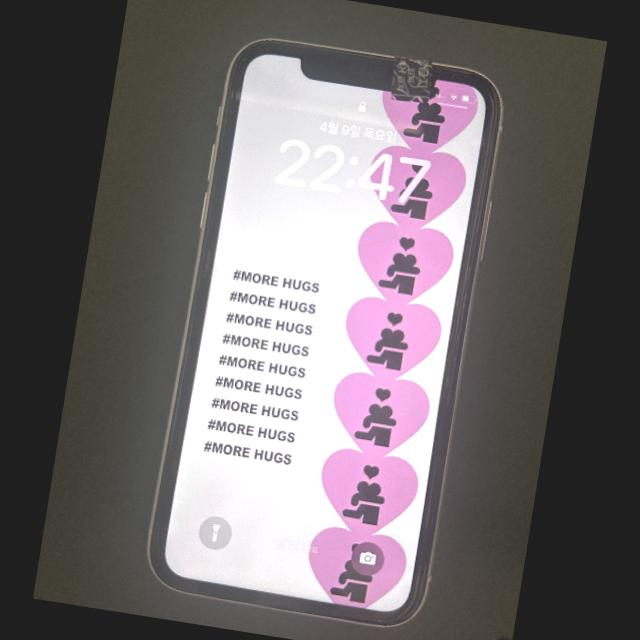phone: (149, 41, 501, 624)
sticker: (389, 55, 433, 104)
